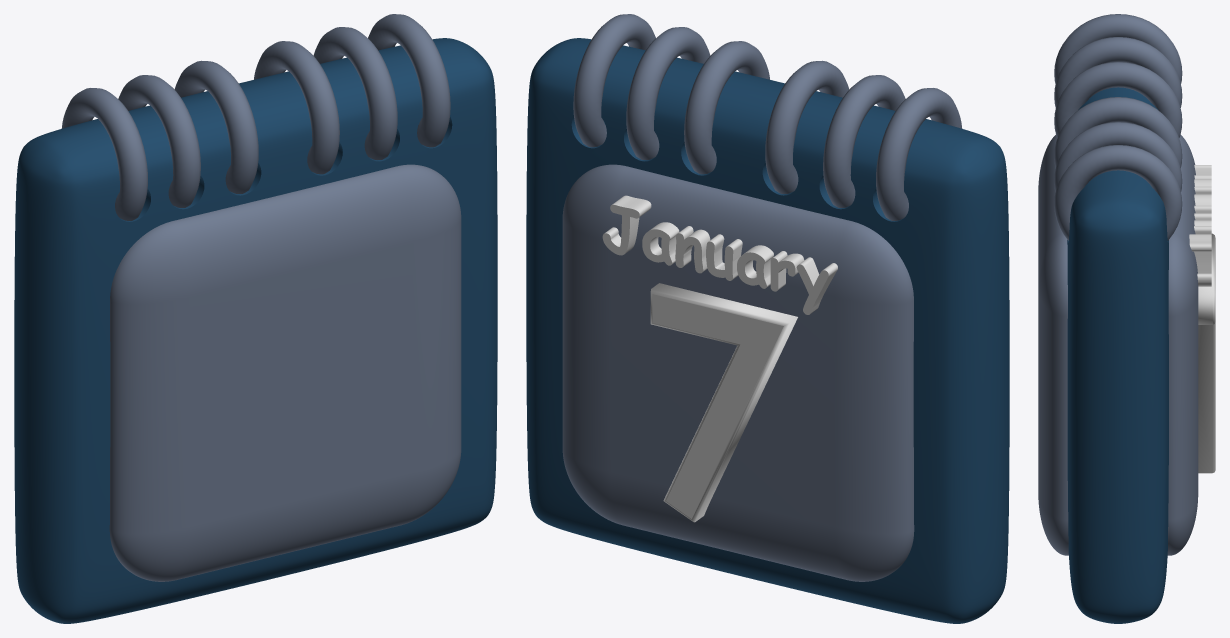
The picture shows the model from 3 angles, left to right: view 1: azimuth 30°, elevation 25°; view 2: azimuth 150°, elevation 25°; view 3: azimuth 270°, elevation 25°; orthographic projection. The views are drawn at different scales.
Parts seen in each view (by area): view 1: Cube; view 2: Cube; view 3: Cube.
Boxes of the visible parts, bbox=[...] form: Cube: bbox=[14, 14, 497, 623]; Cube: bbox=[526, 14, 1009, 623]; Cube: bbox=[1038, 14, 1215, 623].
Size of the model in its own units: 200 by 213 by 74.41.
